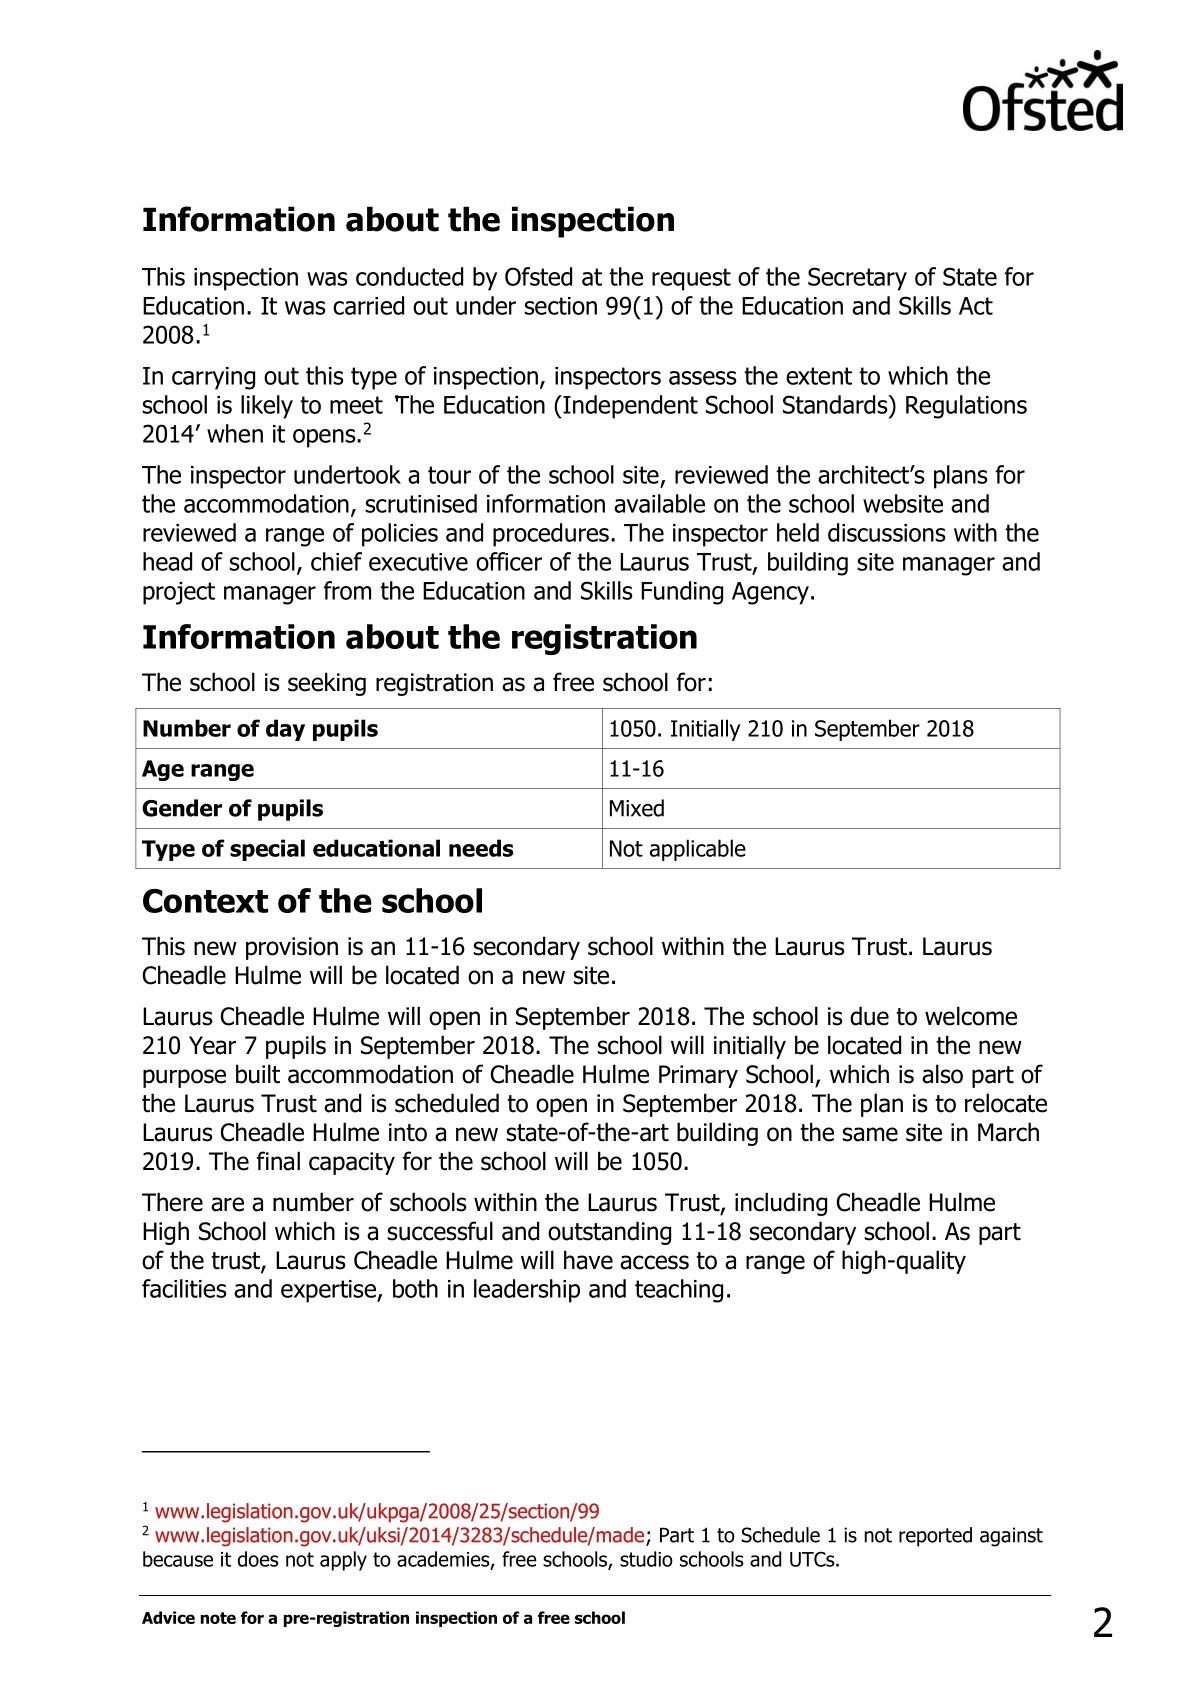full_lined: (134, 707, 1062, 872)
